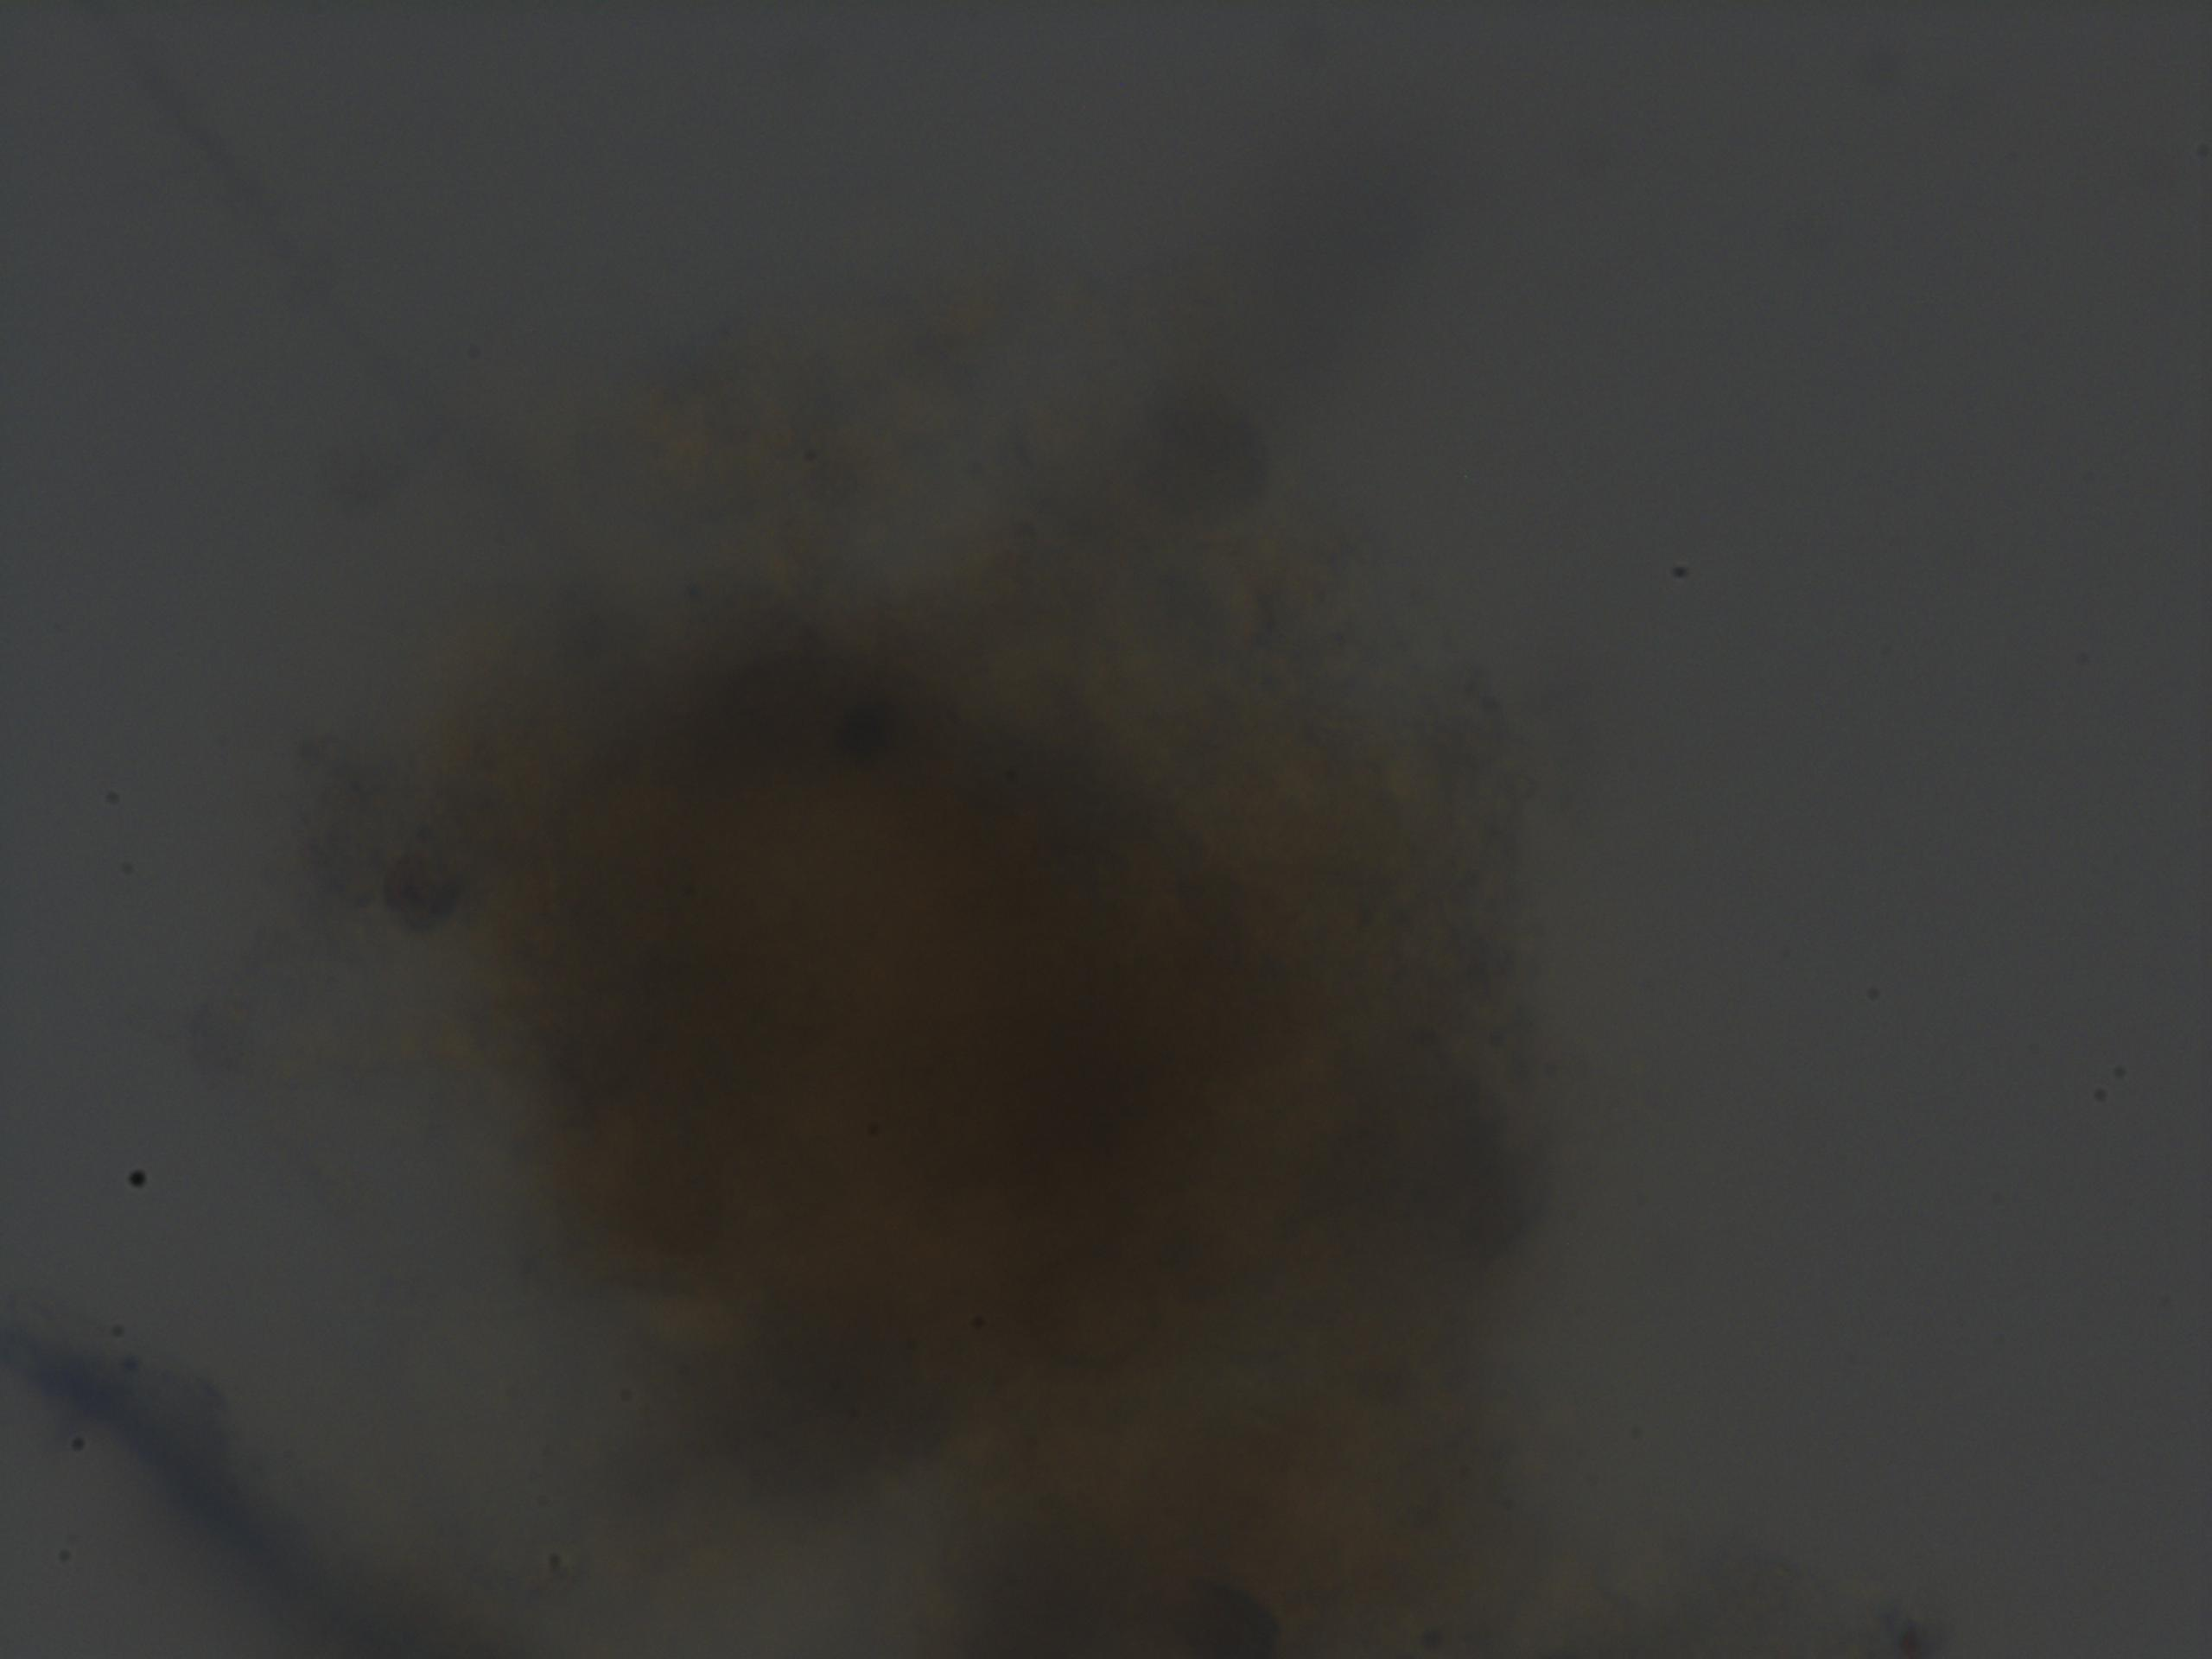spherical_floc: (448, 497, 1524, 1652)
